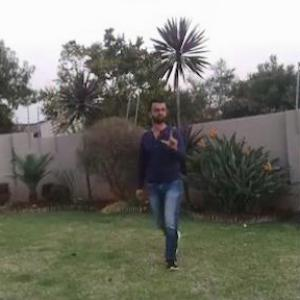land_hand: (156, 120, 182, 153)
